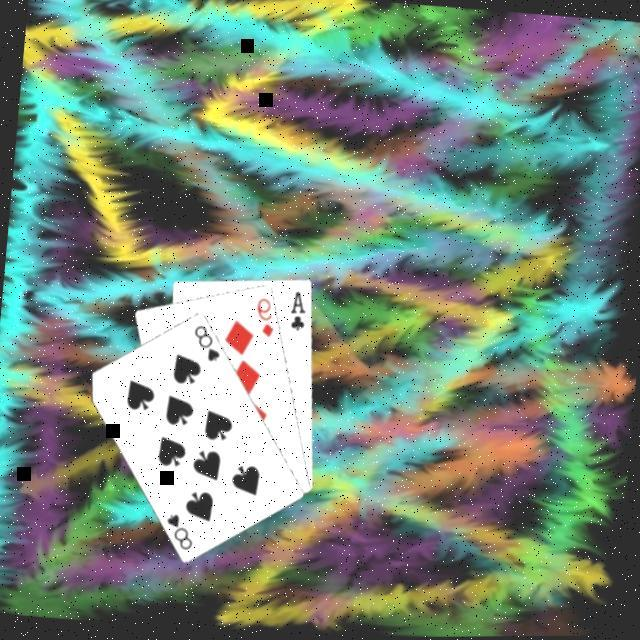8S: (188, 322, 226, 367), (161, 510, 199, 555)
9D: (251, 296, 281, 342)
AC: (286, 289, 312, 336)
